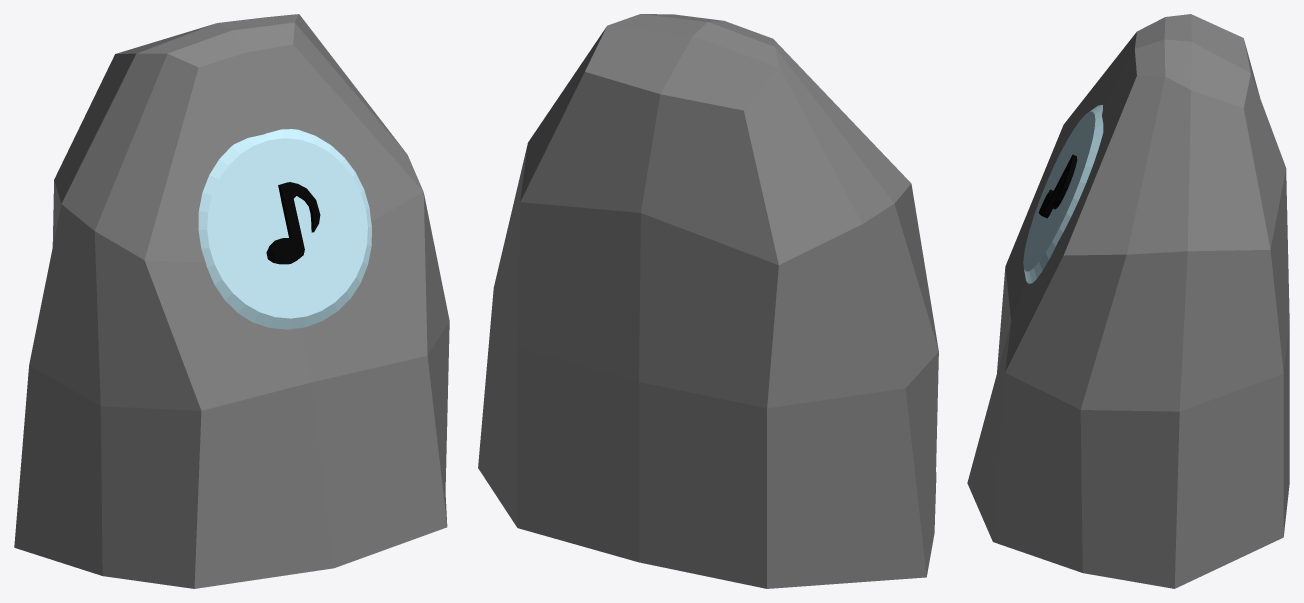
File: rune-musique.fbx
3 renders of one model, left to right at view 1: azimuth 30°, elevation 25°; view 2: azimuth 150°, elevation 25°; view 3: azimuth 270°, elevation 25°, orthographic. The views are drawn at different scales.
Parts seen in each view (by area): view 1: Cube; view 2: Cube; view 3: Cube.
Part boxes in pixels (left/top/right/bottom): Cube: left=14, top=14, right=449, bottom=588; Cube: left=478, top=14, right=938, bottom=588; Cube: left=967, top=14, right=1289, bottom=588.
Bounding box in the file's own units: 260 × 277 × 178.
